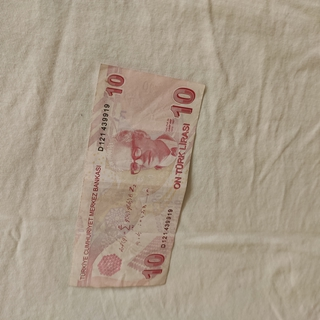10TLBack: (69, 63, 206, 287)
